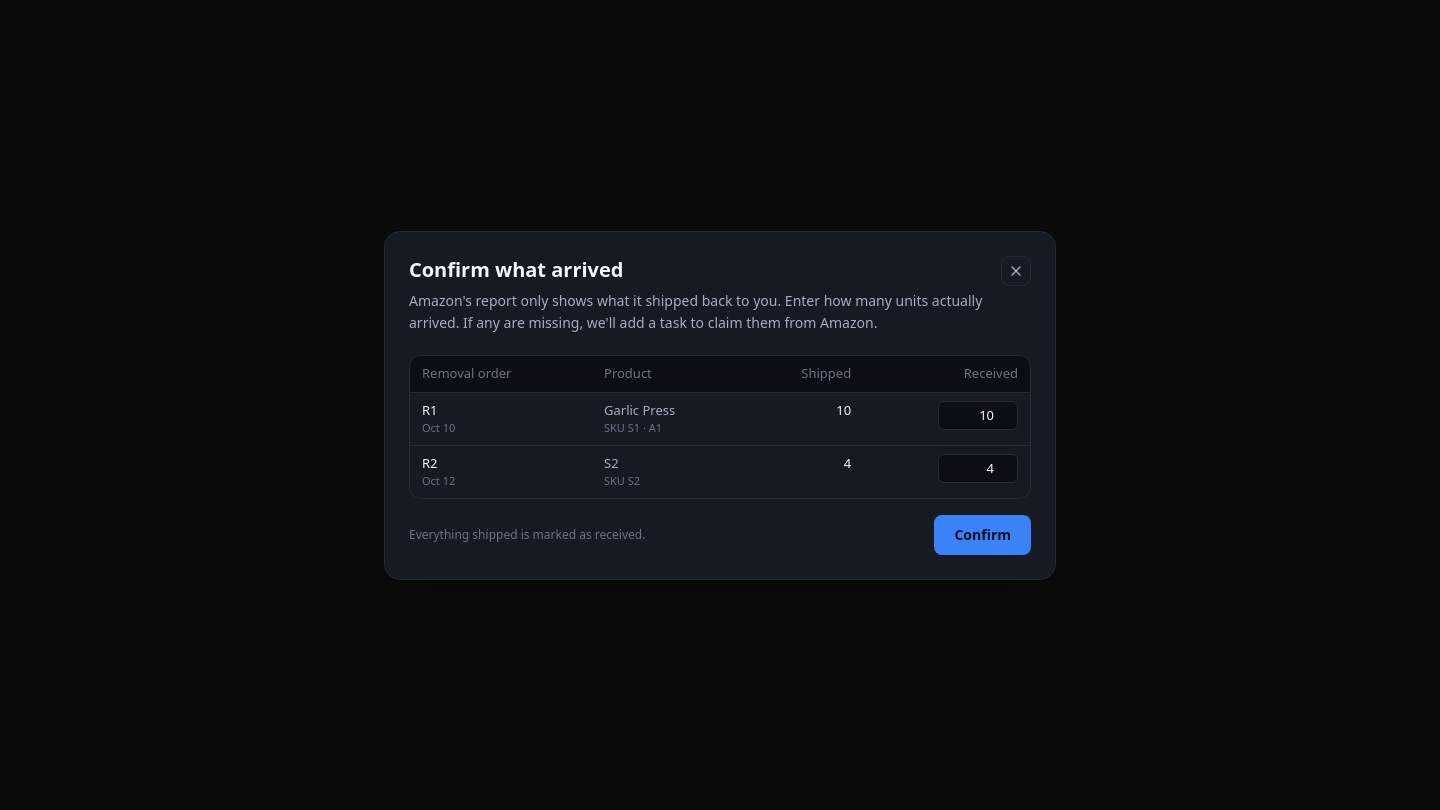
RemovalReceiptModal › blocks Confirm on a count that is not a whole number from 0 to shipped
Expected: the text "Garlic Press" is shown, [604,400,675,418]
Replace the text in the number field named "Units received for order R1, SKU S1" with "11" at (978, 415), box [938,400,1018,430]
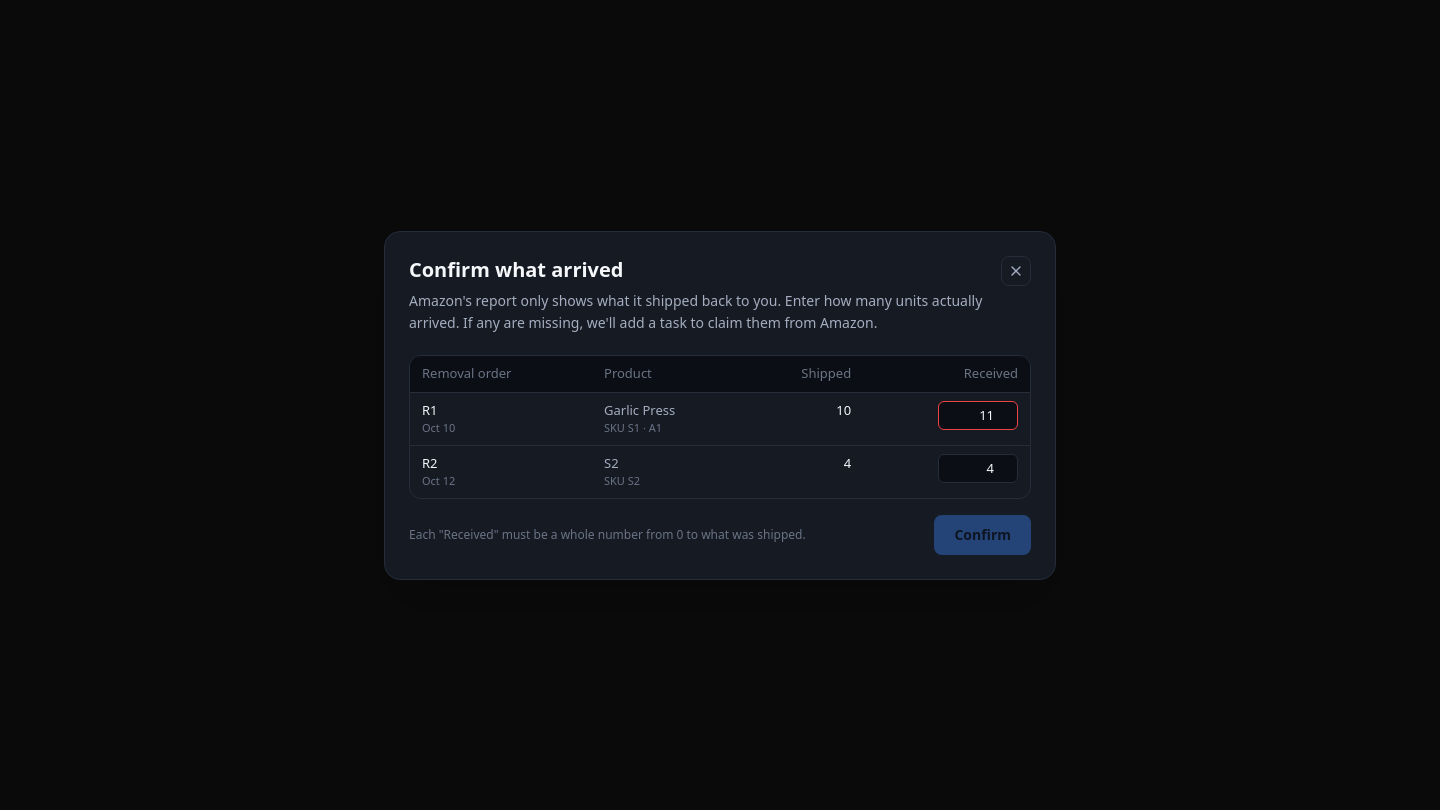
Expected: the button "Confirm" is disabled, [934,514,1031,554]
Replace the text in the number field named "Units received for order R1, SKU S1" with "2.5" at (978, 415), box [938,400,1018,430]
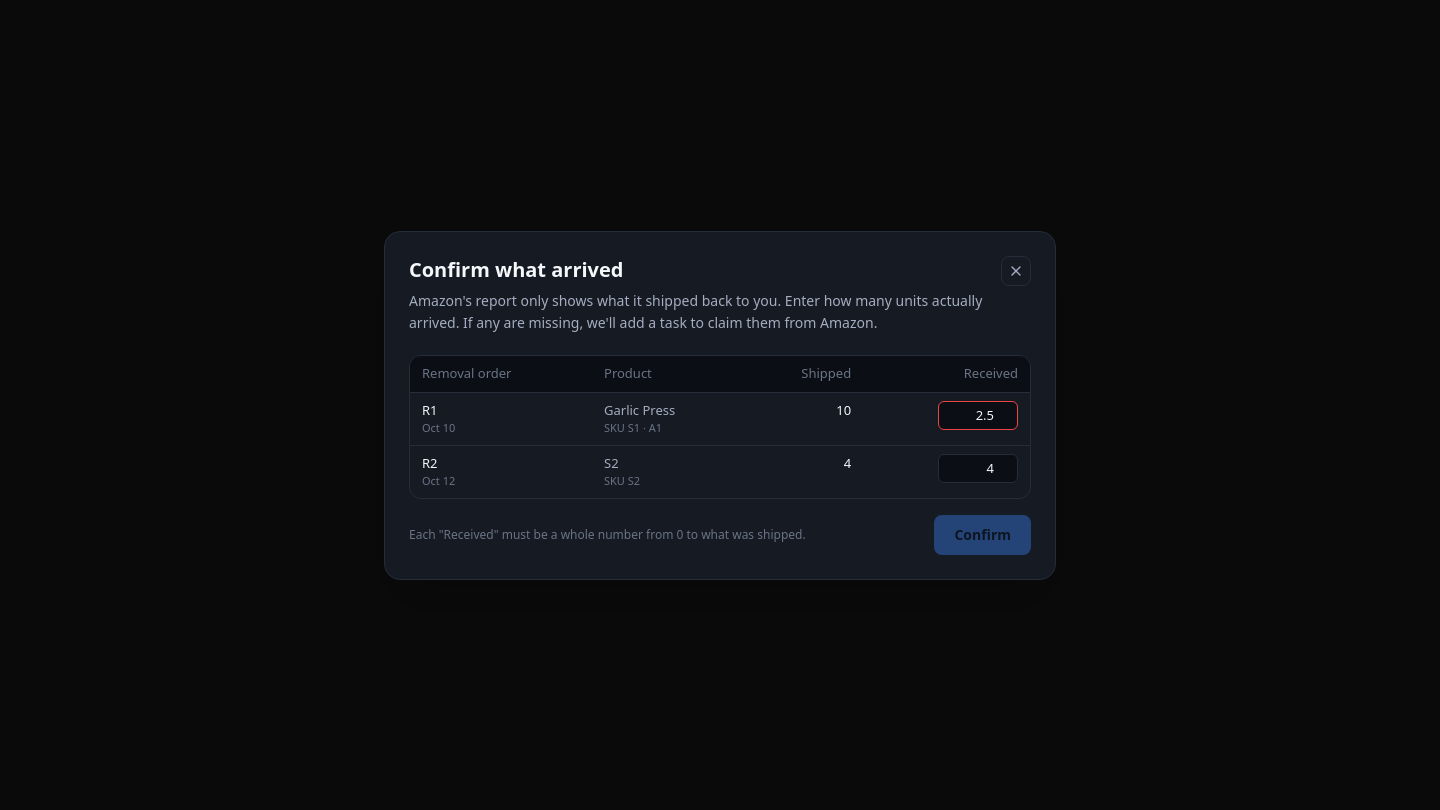
Expected: the button "Confirm" is disabled, [934,514,1031,554]
Clear the number field named "Units received for order R1, SKU S1" at (978, 415), box [938,400,1018,430]
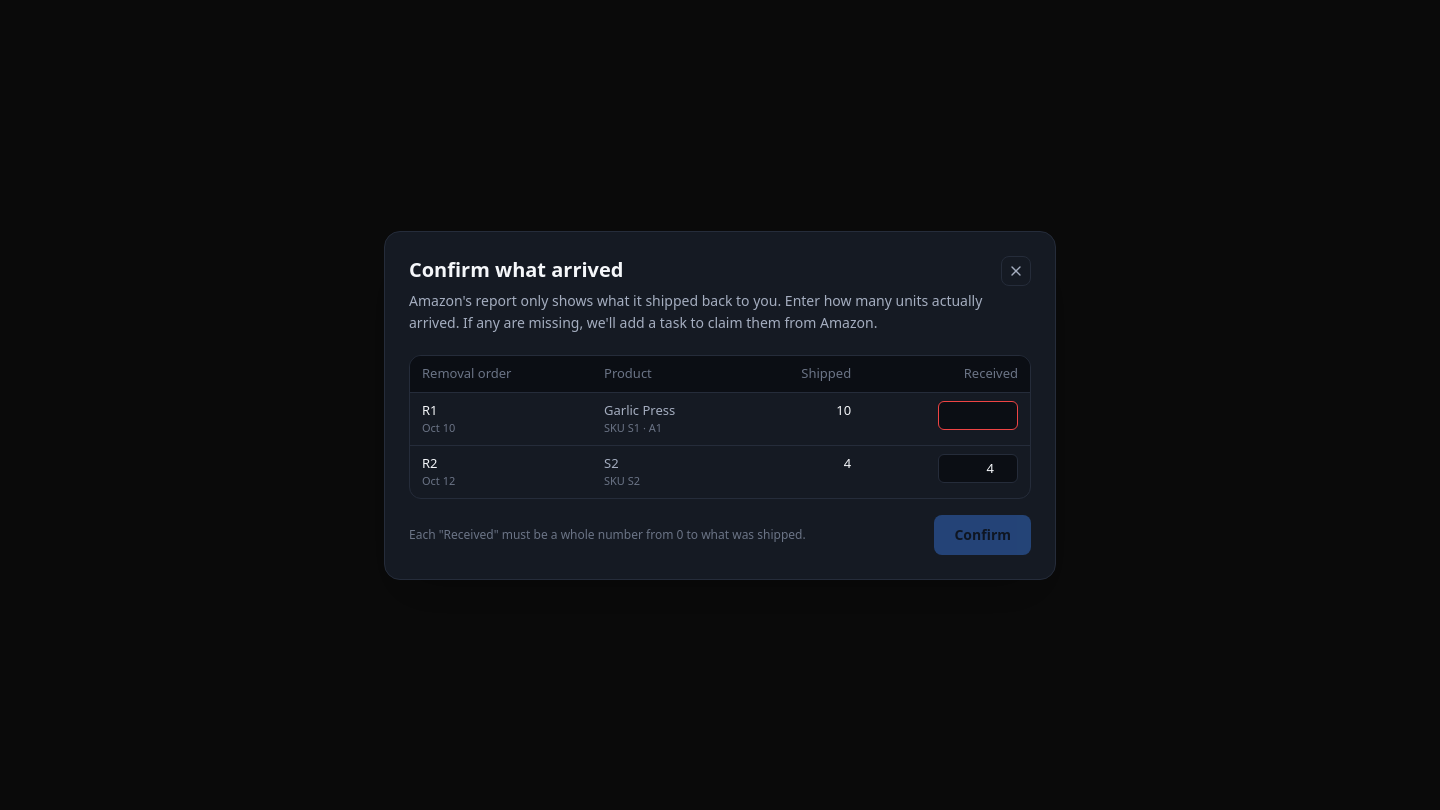
Expected: the button "Confirm" is disabled, [934,514,1031,554]
Type "0" into the number field named "Units received for order R1, SKU S1" at (978, 415), box [938,400,1018,430]
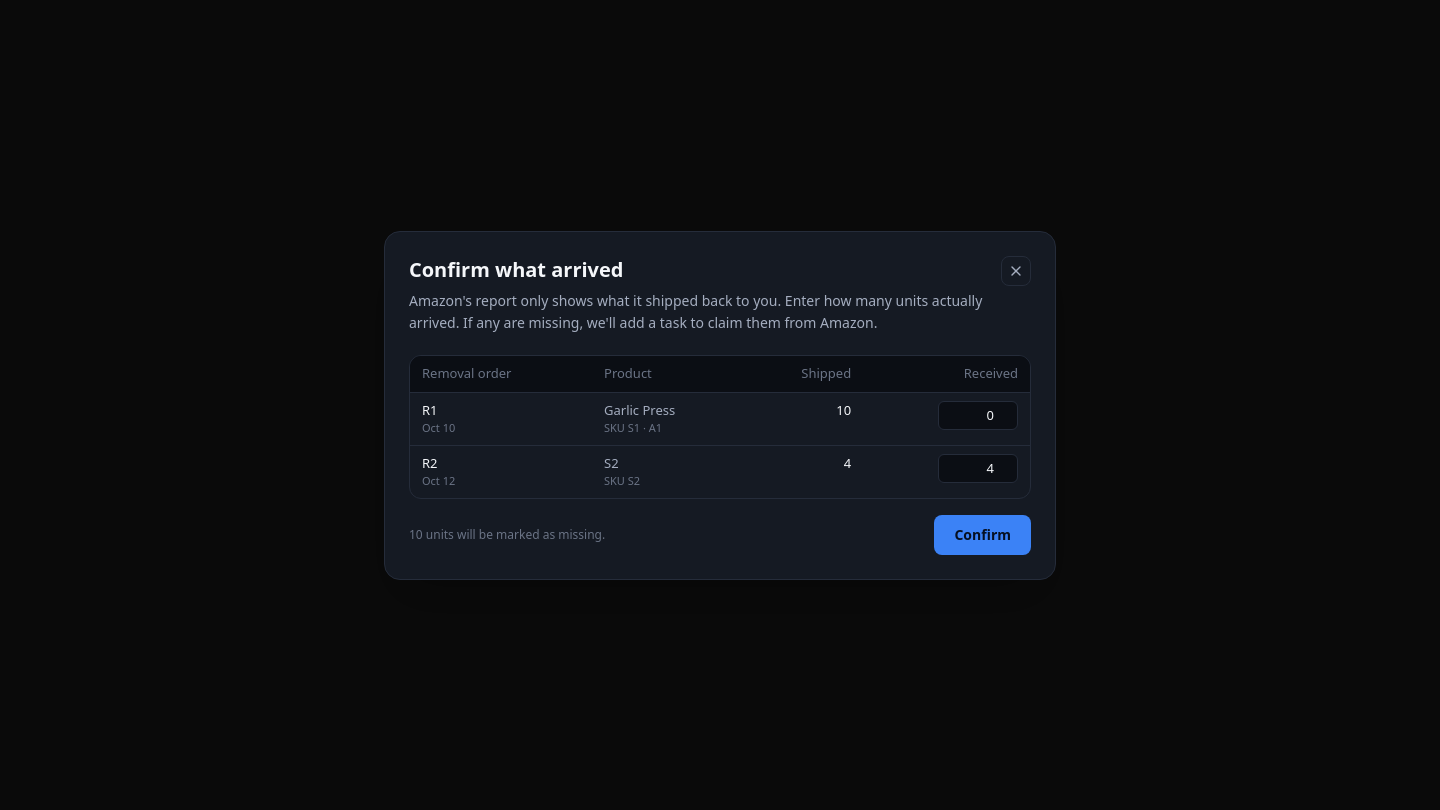
Expected: the button "Confirm" is enabled, [934,514,1031,554]
